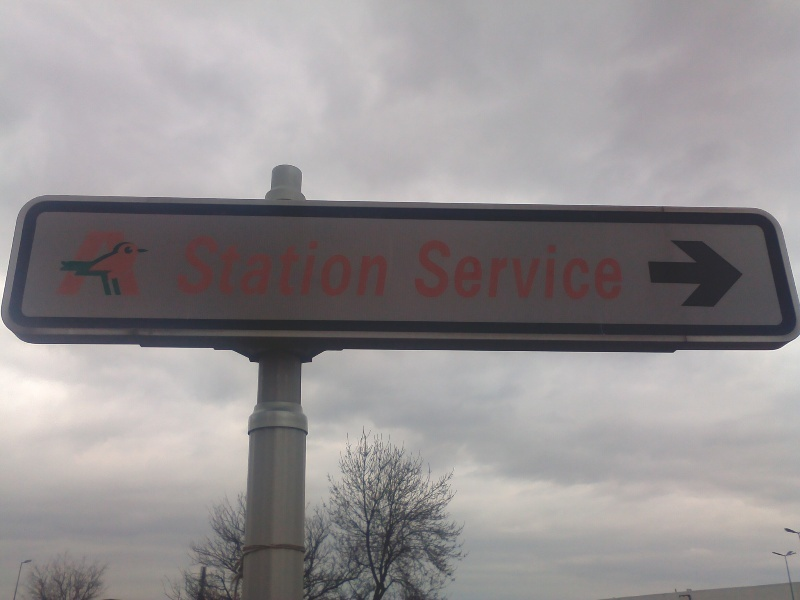text: (65, 229, 80, 298), (81, 229, 96, 298), (97, 229, 112, 298), (113, 229, 128, 298), (129, 229, 144, 298), (193, 235, 208, 297), (209, 235, 224, 297), (225, 235, 240, 297), (241, 235, 256, 297), (257, 235, 272, 297), (273, 235, 288, 297), (289, 235, 304, 297), (305, 235, 320, 297), (321, 235, 336, 297), (337, 235, 352, 297), (353, 235, 368, 297), (369, 235, 384, 297), (417, 240, 432, 302), (433, 240, 448, 302), (449, 240, 464, 302), (465, 240, 480, 302), (481, 240, 496, 302), (497, 240, 512, 302), (513, 240, 528, 302), (529, 240, 544, 302), (545, 240, 560, 302), (561, 240, 576, 302), (577, 240, 592, 302), (593, 240, 608, 302), (609, 240, 624, 302), (183, 235, 192, 297), (56, 229, 64, 298), (385, 235, 392, 297), (145, 229, 149, 298), (413, 240, 416, 302)
